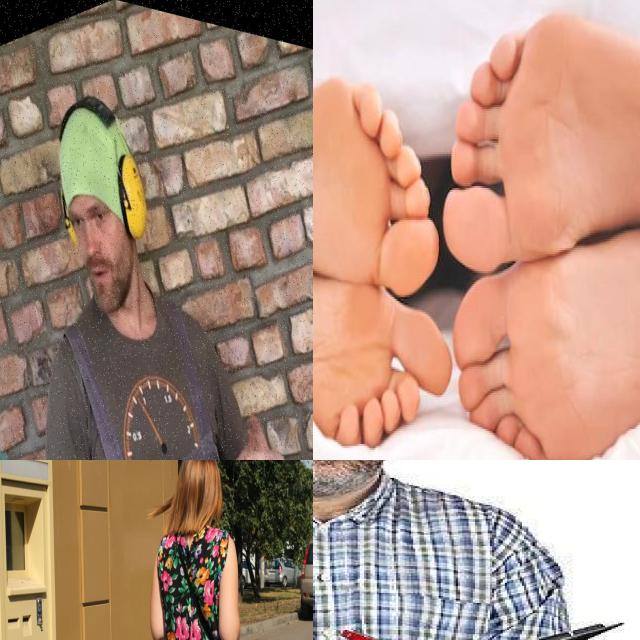Barefoots: (446, 13, 640, 275), (452, 230, 640, 460), (313, 246, 454, 459), (313, 68, 443, 296)
Ear-protection: (119, 156, 153, 250)
